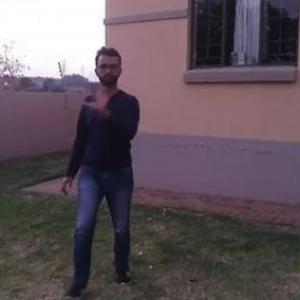follow_hand: (80, 79, 112, 117)
